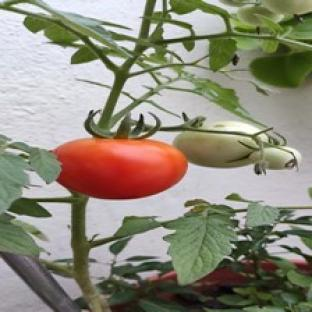Tomato: (55, 138, 188, 199), (173, 122, 260, 168), (237, 6, 284, 26), (264, 147, 302, 169)
